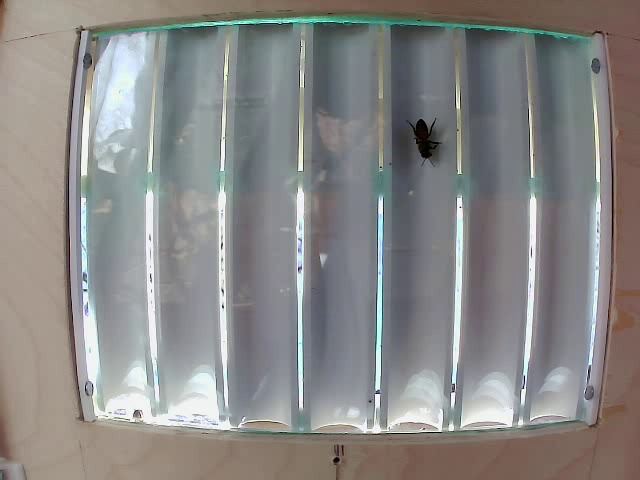bee: (404, 108, 436, 171)
